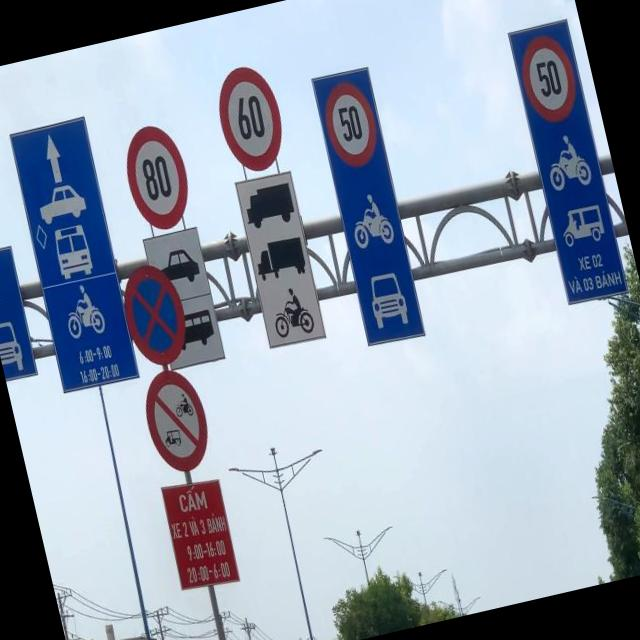P-104: (137, 364, 216, 476)
P-127: (210, 60, 292, 176), (118, 120, 196, 236)
P-130: (114, 260, 193, 370)
